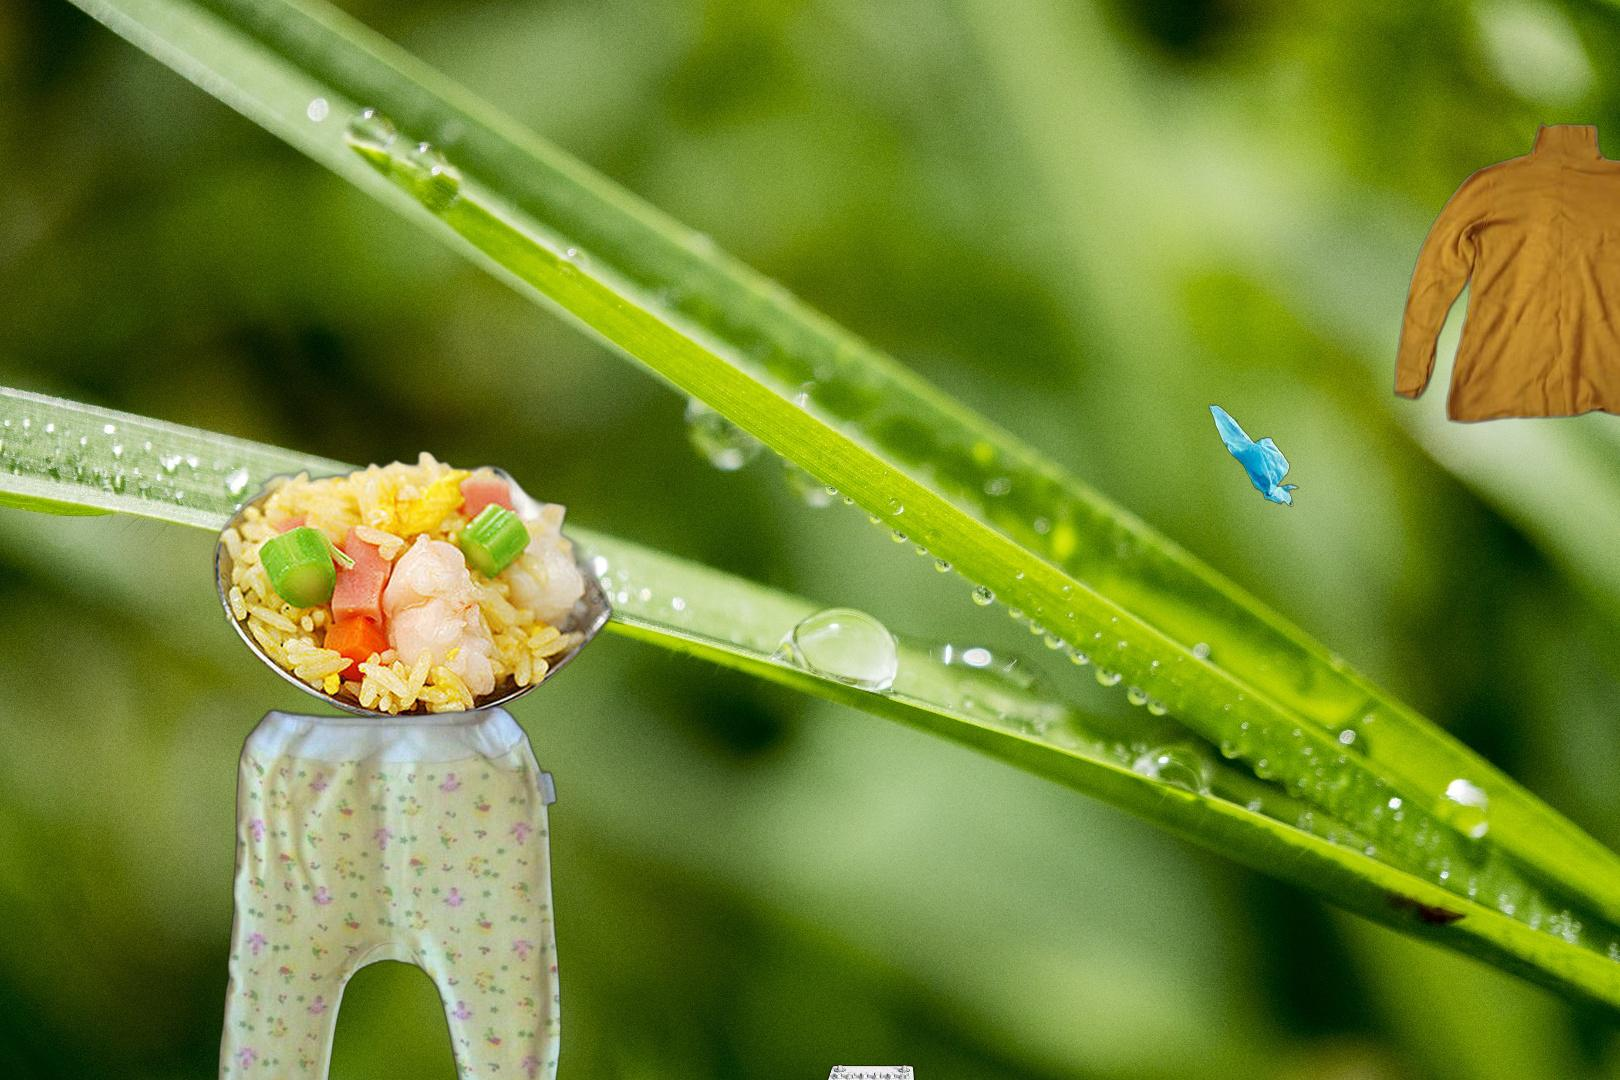battery: (765, 1061, 1023, 1080)
biological: (209, 448, 618, 724)
clothes: (209, 699, 565, 1080), (1390, 119, 1620, 427)
plastic-bag: (1207, 403, 1302, 510)
